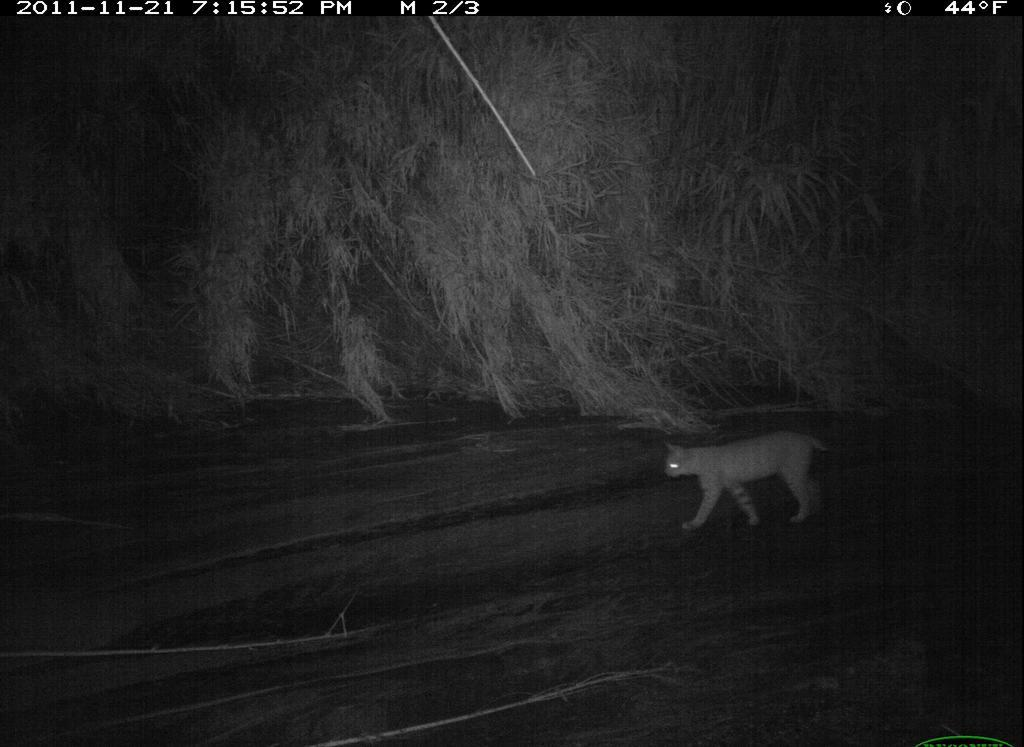bobcat: (657, 423, 843, 539)
